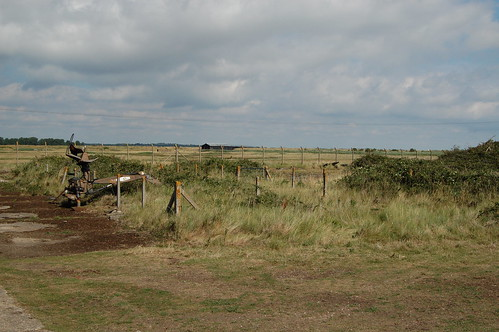grass: (1, 179, 499, 332)
sky: (3, 1, 499, 134)
vegetation: (5, 149, 492, 248)
